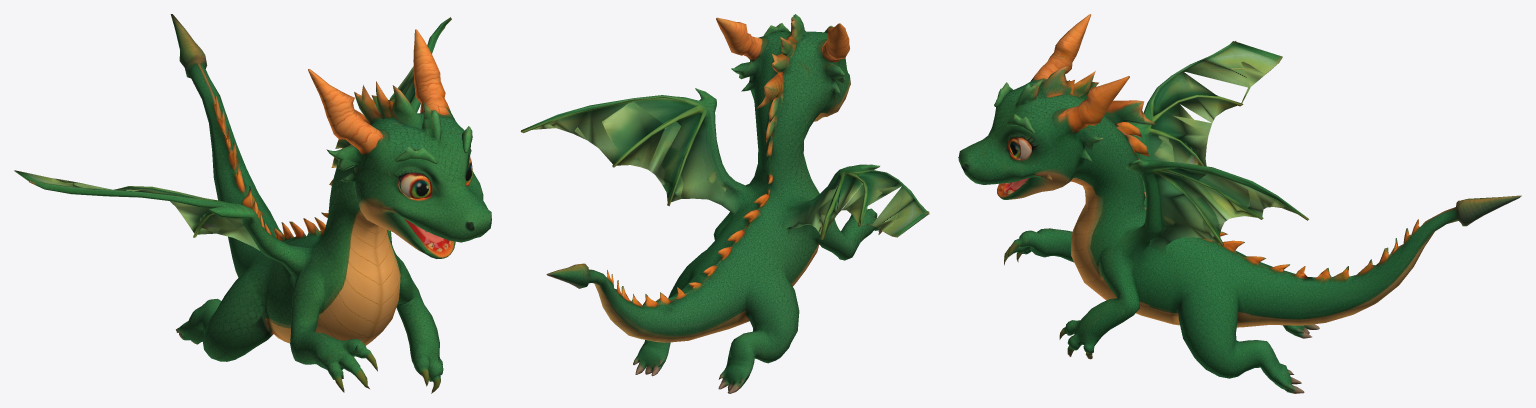
File: speedy.glb
3 views of the same model, side by side, from view 1: azimuth 30°, elevation 25°; view 2: azimuth 150°, elevation 25°; view 3: azimuth 270°, elevation 25° (orthographic). The views are drawn at different scales.
Bounding box in the file's own units: 0.7827 × 0.6099 × 0.9521.
Materials: 1 (1 with a texture image).
